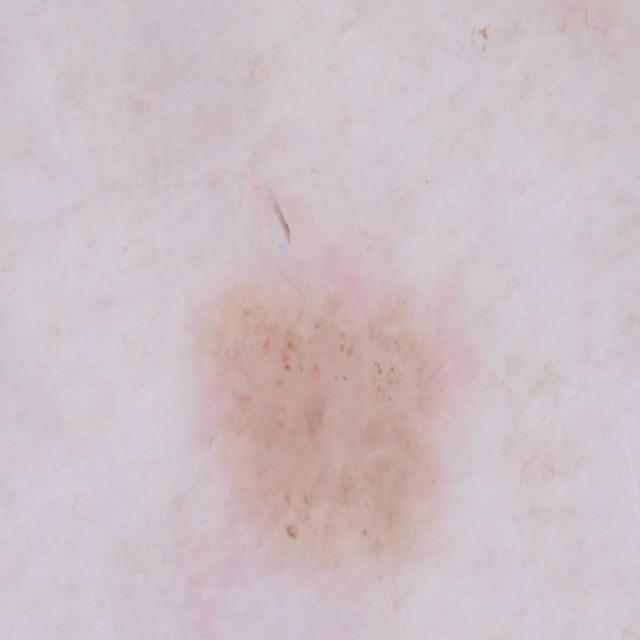Carcinoma: (178, 263, 479, 598)
